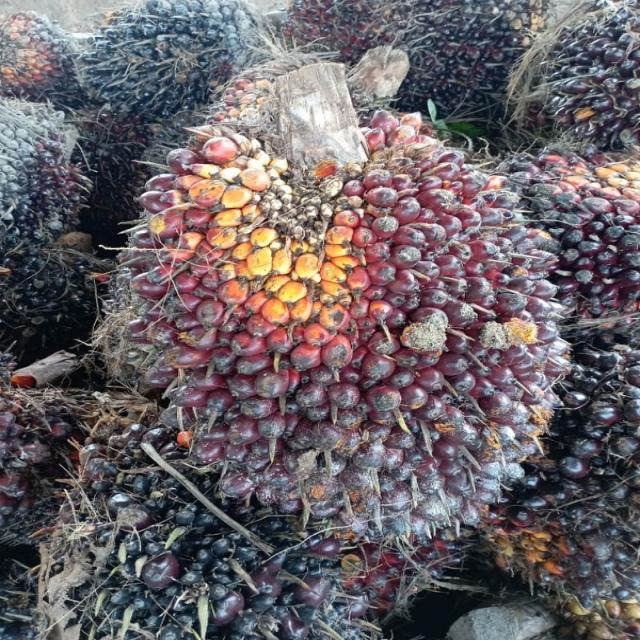fraksi 1: (98, 80, 561, 543)
